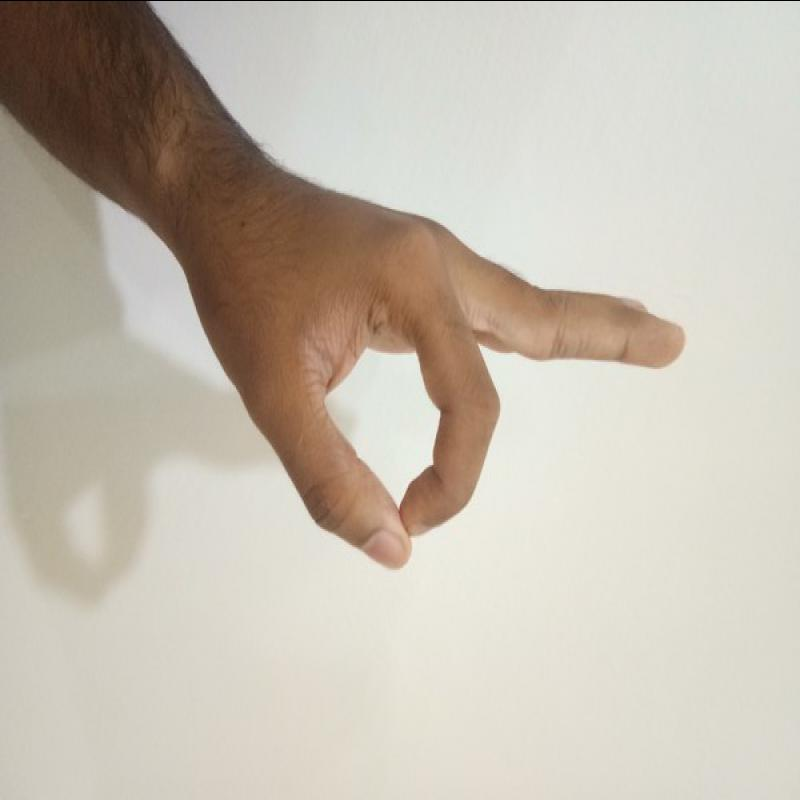Mudraakhyam: (187, 192, 696, 585)
